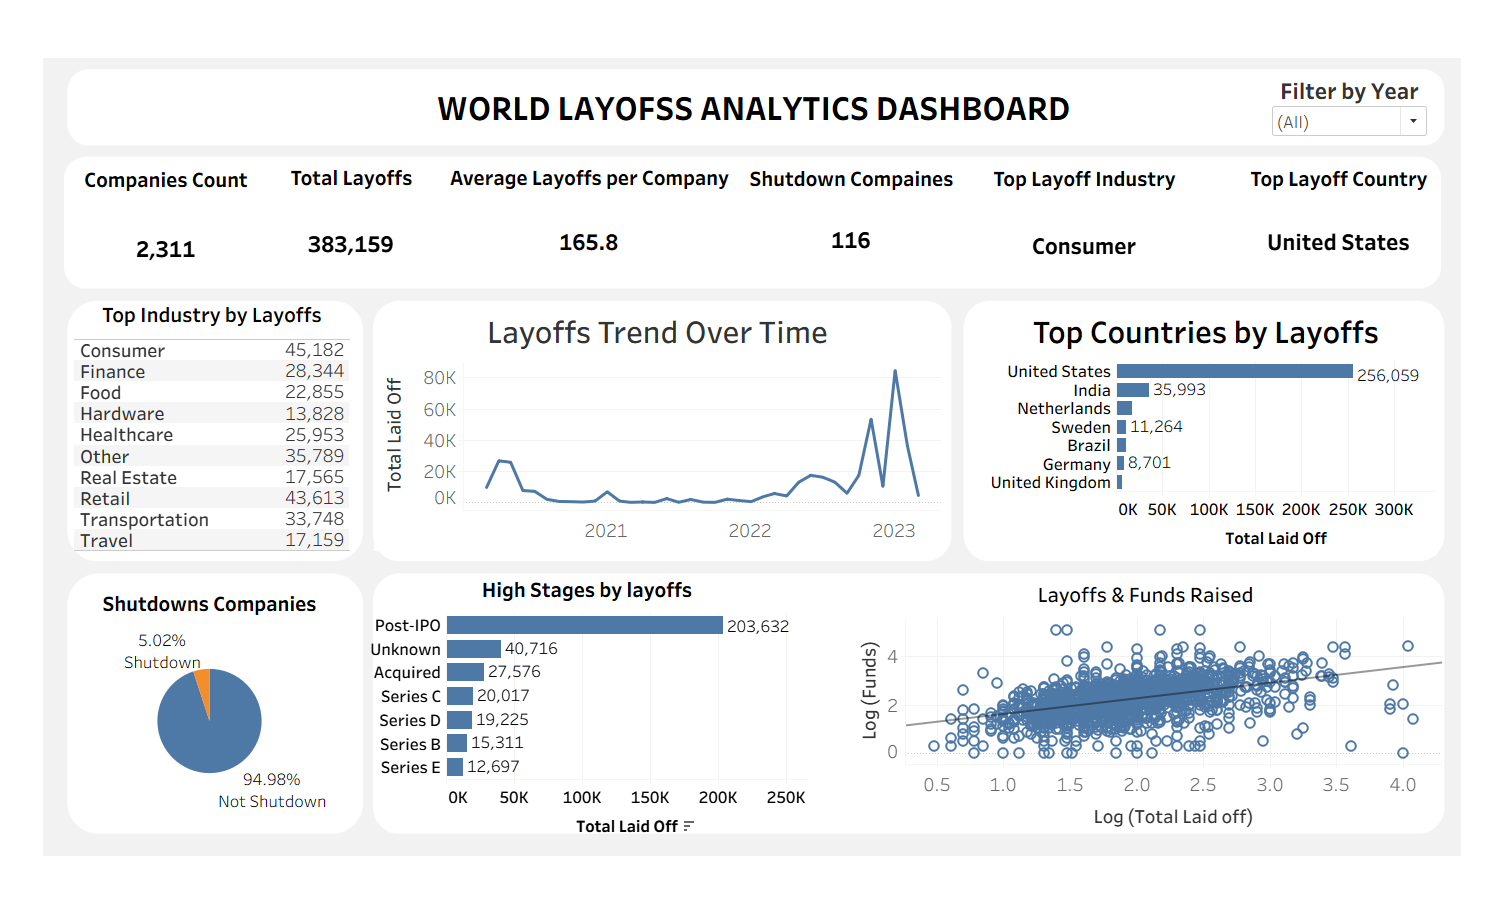

This screenshot's page, from the dashboard's own definition file:
{"tool":"tableau","page":{"name":"Dashboard 1","canvas":[1616,806],"ordinal":0},"visuals":[{"type":"image","param":"D:/Ahmed Rabie/SQL/World layoffs/Visualization/Dashboard Layout.png","box":[0,0,1616,806]},{"type":"text","box":[152.1,15,1314.8,76]},{"type":"filter","title":"Layoffs trend over time","param":"[federated.0d1602o04azpq7166by1k0py5med].[yr:date:ok]","box":[1324.8,21,161.2,62]},{"type":"worksheet","title":"Total Layoffs","mark":"Automatic","box":[309.3,105,197.5,127]},{"type":"worksheet","title":"Avg Layoffs per company","mark":"Automatic","box":[491.7,105,307.3,123]},{"type":"worksheet","title":"Shutdown Companies","mark":"Automatic","box":[797.9,106,218.6,117]},{"type":"worksheet","title":"Top Industry","mark":"Automatic","box":[1039.7,106,201.5,129]},{"type":"worksheet","title":"Top Country","mark":"Automatic","box":[1290.6,106,207.5,121]},{"type":"worksheet","title":"Companies count","mark":"Automatic","box":[119.9,107,203.5,133]},{"type":"worksheet","title":"Top Industry by layoffs","mark":"Automatic","rows":["industry"],"box":[130,242,276,255]},{"type":"worksheet","title":"Layoffs trend over time","mark":"Line","rows":["total_laid_off"],"cols":["date"],"box":[430.2,252,567.2,245]},{"type":"worksheet","title":"Top Countries by Layoffs","mark":"Automatic","rows":["country"],"cols":["total_laid_off"],"box":[1031.7,252,460.4,250]},{"type":"legend","title":"Top Industry by layoffs","param":"[federated.0d1602o04azpq7166by1k0py5med].[sum:total_laid_off:qk]","box":[732.4,394,141,100]},{"type":"worksheet","title":"High Stage By Layoffs","mark":"Automatic","rows":["stage"],"cols":["total_laid_off"],"box":[422,517,442,273]},{"type":"worksheet","title":"Relation between Layoffs & Funds","mark":"Automatic","rows":["Calculation_1148211939192833"],"cols":["Calculation_1148211938852864"],"box":[905,522,593,259]},{"type":"worksheet","title":"Shutdown percentage","mark":"Pie","box":[134,531,263,230]}]}

Visuals, with their boxes on the page's 1616x806 design canvas (x1, y1, x2, y2). These are canvas units, not pixel positions in the 1510x899 screenshot, which may show the page scaled, cropped or inside an application window:
image: select_region(0, 0, 1616, 806)
text: select_region(152, 15, 1467, 91)
"Layoffs trend over time" filter: select_region(1325, 21, 1486, 83)
"Total Layoffs" worksheet: select_region(309, 105, 507, 232)
"Avg Layoffs per company" worksheet: select_region(492, 105, 799, 228)
"Shutdown Companies" worksheet: select_region(798, 106, 1016, 223)
"Top Industry" worksheet: select_region(1040, 106, 1241, 235)
"Top Country" worksheet: select_region(1291, 106, 1498, 227)
"Companies count" worksheet: select_region(120, 107, 323, 240)
"Top Industry by layoffs" worksheet: select_region(130, 242, 406, 497)
"Layoffs trend over time" worksheet (Line marks): select_region(430, 252, 997, 497)
"Top Countries by Layoffs" worksheet: select_region(1032, 252, 1492, 502)
"Top Industry by layoffs" legend: select_region(732, 394, 873, 494)
"High Stage By Layoffs" worksheet: select_region(422, 517, 864, 790)
"Relation between Layoffs & Funds" worksheet: select_region(905, 522, 1498, 781)
"Shutdown percentage" worksheet (Pie marks): select_region(134, 531, 397, 761)
